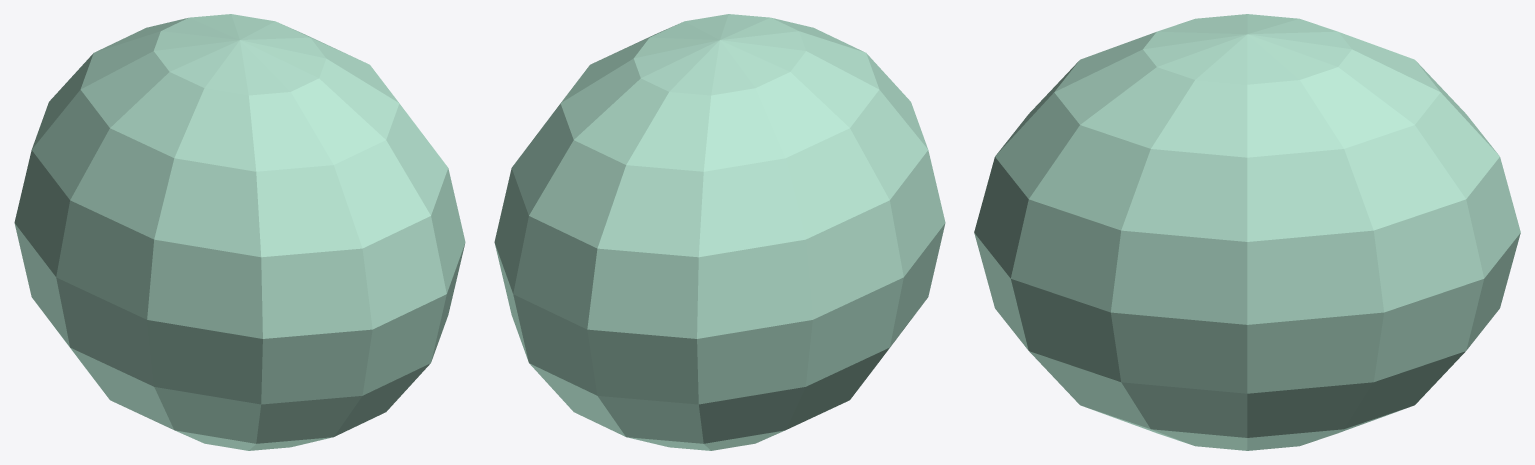
The model's file is prp_food_token_a.glb.
3 renders of one model, left to right at view 1: azimuth 30°, elevation 25°; view 2: azimuth 150°, elevation 25°; view 3: azimuth 270°, elevation 25°, orthographic. The views are drawn at different scales.
Visible parts, largest first — view 1: prp_food_token_a; view 2: prp_food_token_a; view 3: prp_food_token_a.
Boxes of the visible parts, left/top/right/bottom form: prp_food_token_a: left=14, top=14, right=465, bottom=450; prp_food_token_a: left=494, top=14, right=945, bottom=450; prp_food_token_a: left=974, top=14, right=1520, bottom=450.
Size of the model in its own units: 0.32 by 0.32 by 0.4.
